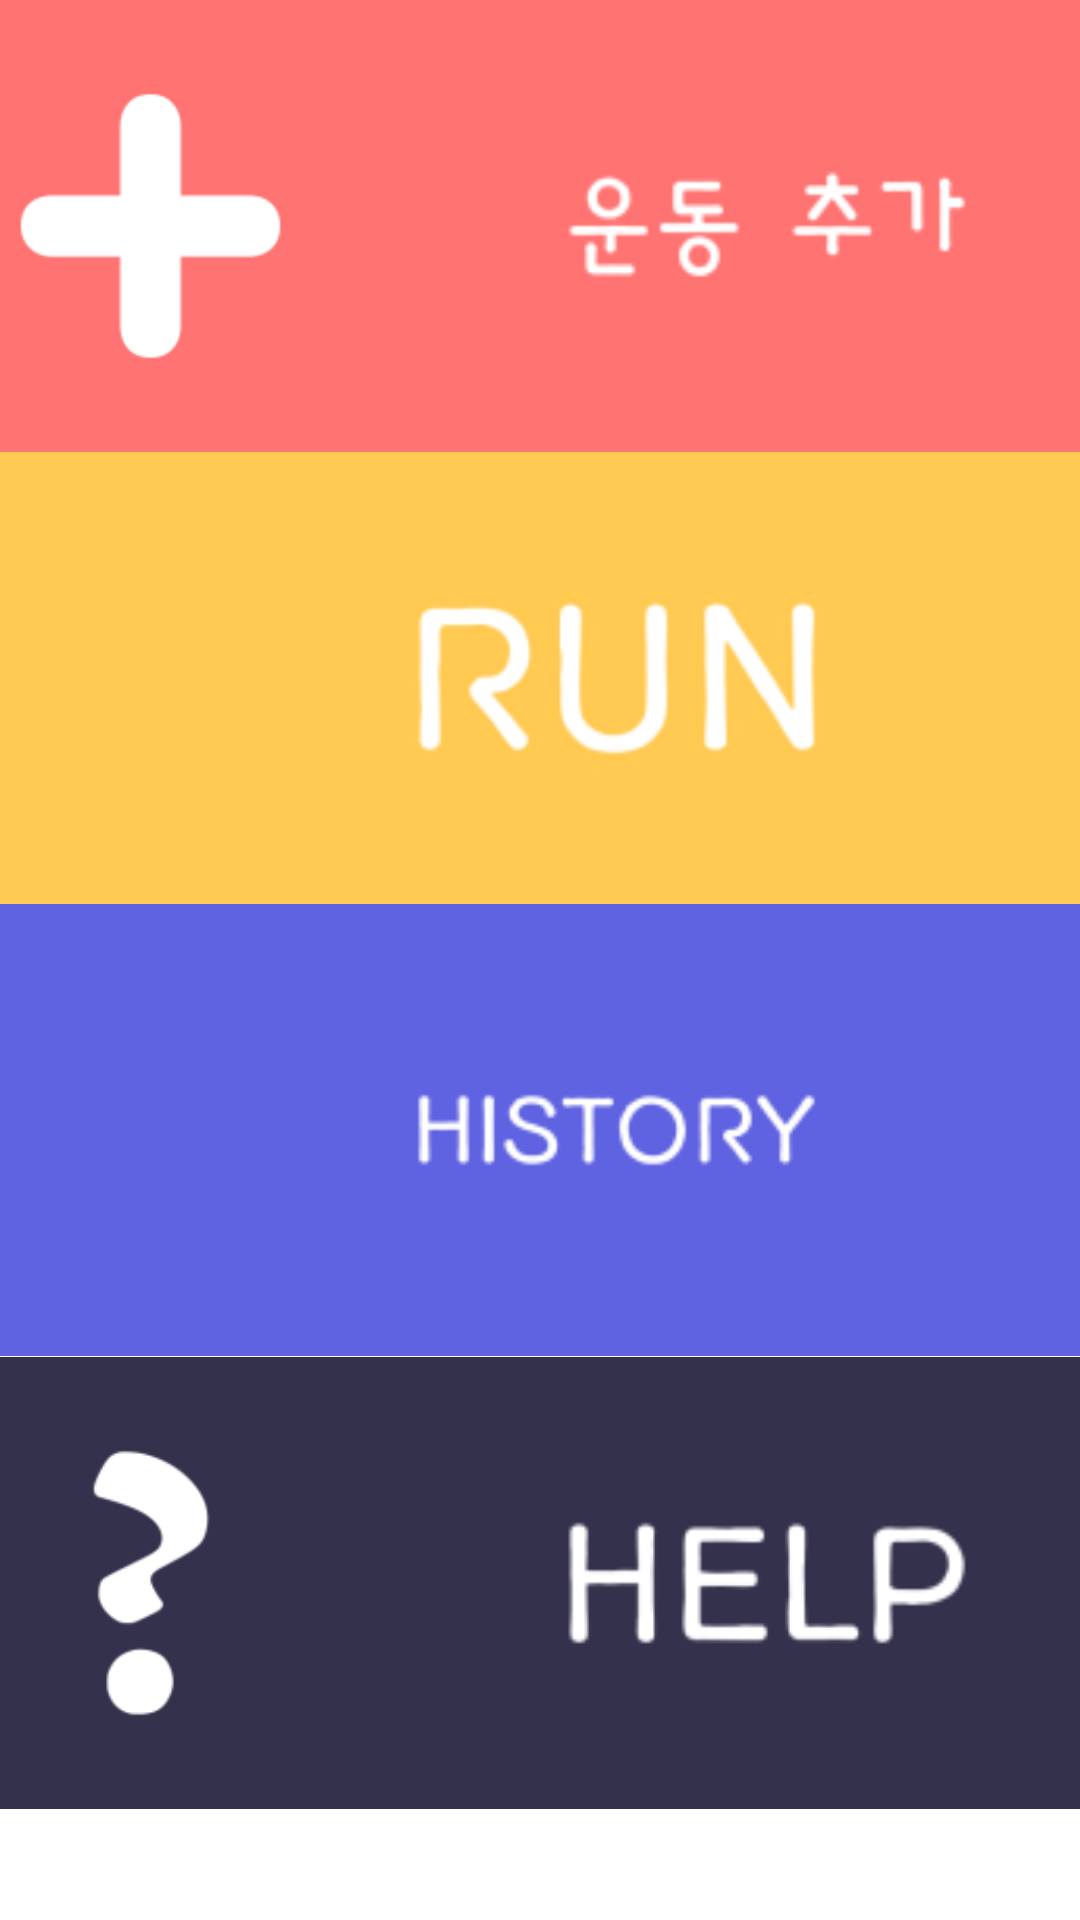

Named icons in this screenshot (1080 x 1920) and their bounding boxes, (x1, y1, x2, y2):
plus: (20, 94, 281, 358)
question: (93, 1451, 209, 1715)
